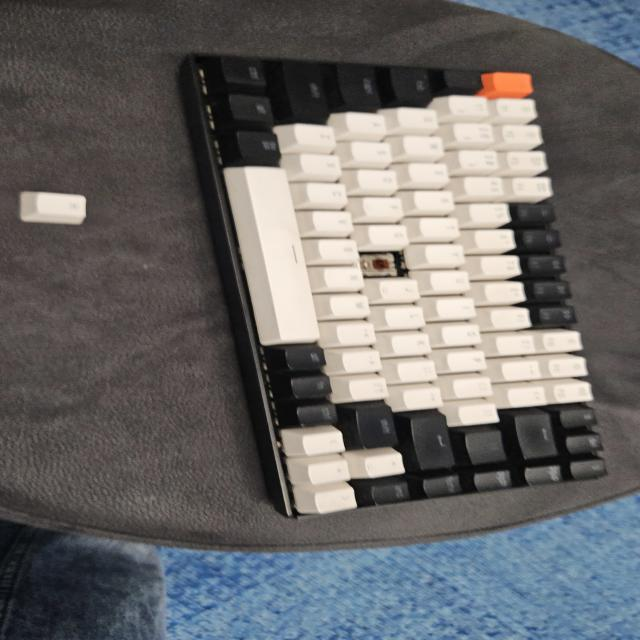C: (360, 253, 396, 272)
